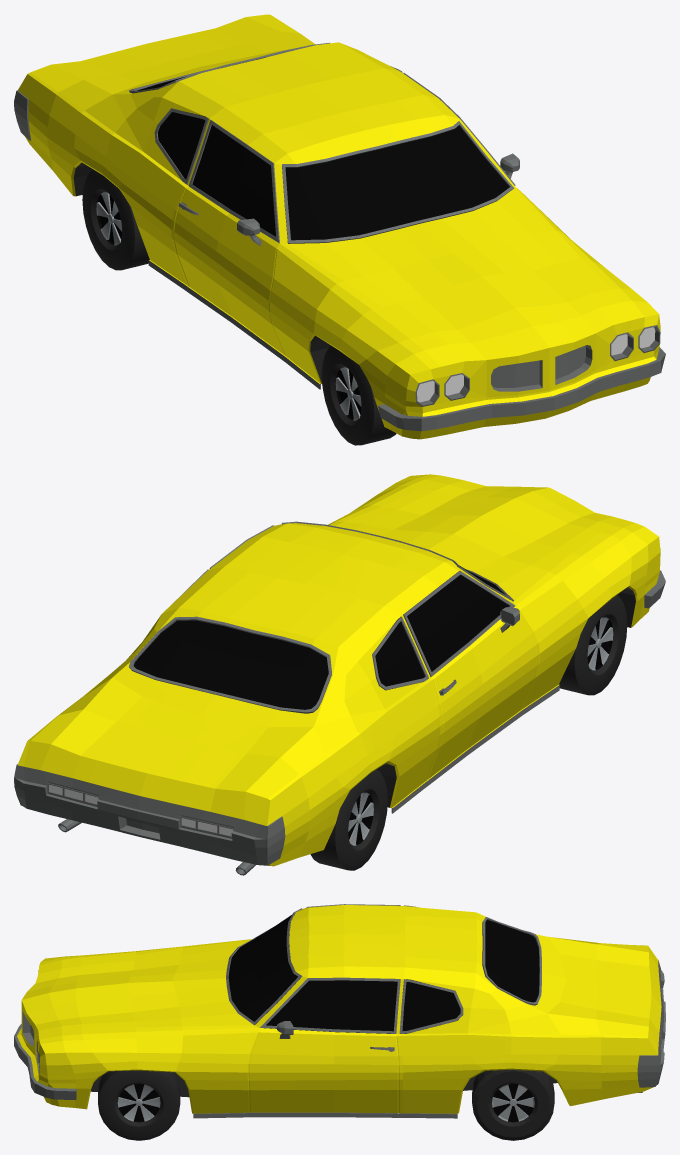
File: maincar.fbx
The picture shows the model from 3 angles, top to bottom: view 1: azimuth 30°, elevation 25°; view 2: azimuth 150°, elevation 25°; view 3: azimuth 270°, elevation 25°; orthographic projection. The views are drawn at different scales.
Visible parts, largest first — view 1: MainCar, Wheels; view 2: MainCar, Wheels; view 3: MainCar, Wheels.
Boxes of the visible parts, x1=… form: MainCar: x1=14, y1=14, x2=665, y2=439; Wheels: x1=82, y1=169, x2=396, y2=445; MainCar: x1=14, y1=474, x2=665, y2=875; Wheels: x1=310, y1=595, x2=627, y2=870; MainCar: x1=14, y1=904, x2=665, y2=1118; Wheels: x1=98, y1=1070, x2=554, y2=1140.
Bounding box in the file's own units: 128 × 89.54 × 333.
